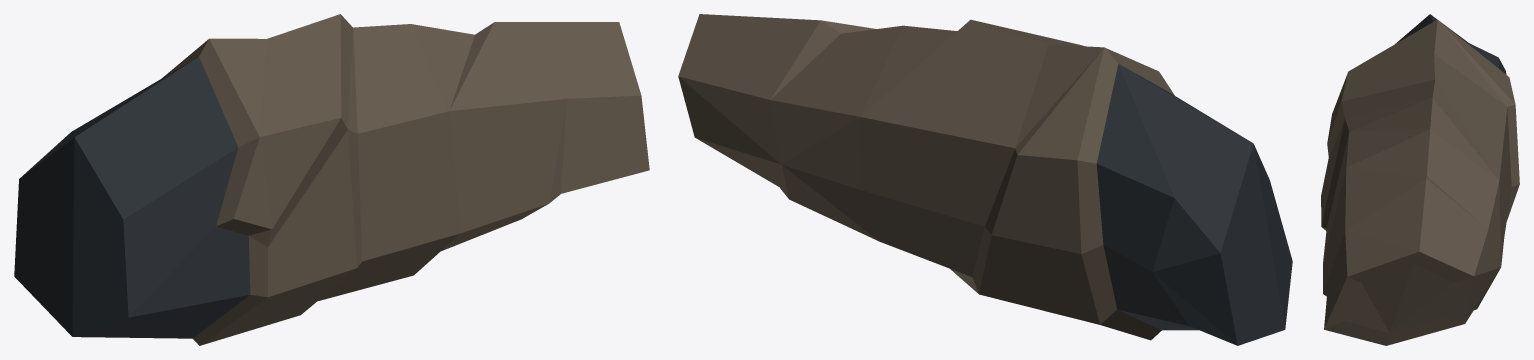
The model's file is Chr_ArmLowerLeft_Female_03_Static.fbx.
3 views of the same model, side by side, from view 1: azimuth 30°, elevation 25°; view 2: azimuth 150°, elevation 25°; view 3: azimuth 270°, elevation 25° (orthographic). The views are drawn at different scales.
Parts seen in each view (by area): view 1: Chr_ArmLowerLeft_Female_03_Static; view 2: Chr_ArmLowerLeft_Female_03_Static; view 3: Chr_ArmLowerLeft_Female_03_Static.
Part boxes in pixels (x1=…): Chr_ArmLowerLeft_Female_03_Static: x1=14, y1=14, x2=649, y2=345; Chr_ArmLowerLeft_Female_03_Static: x1=678, y1=14, x2=1292, y2=345; Chr_ArmLowerLeft_Female_03_Static: x1=1321, y1=14, x2=1519, y2=345.
Size of the model in its own units: 0.2944 by 0.1443 by 0.1043.
